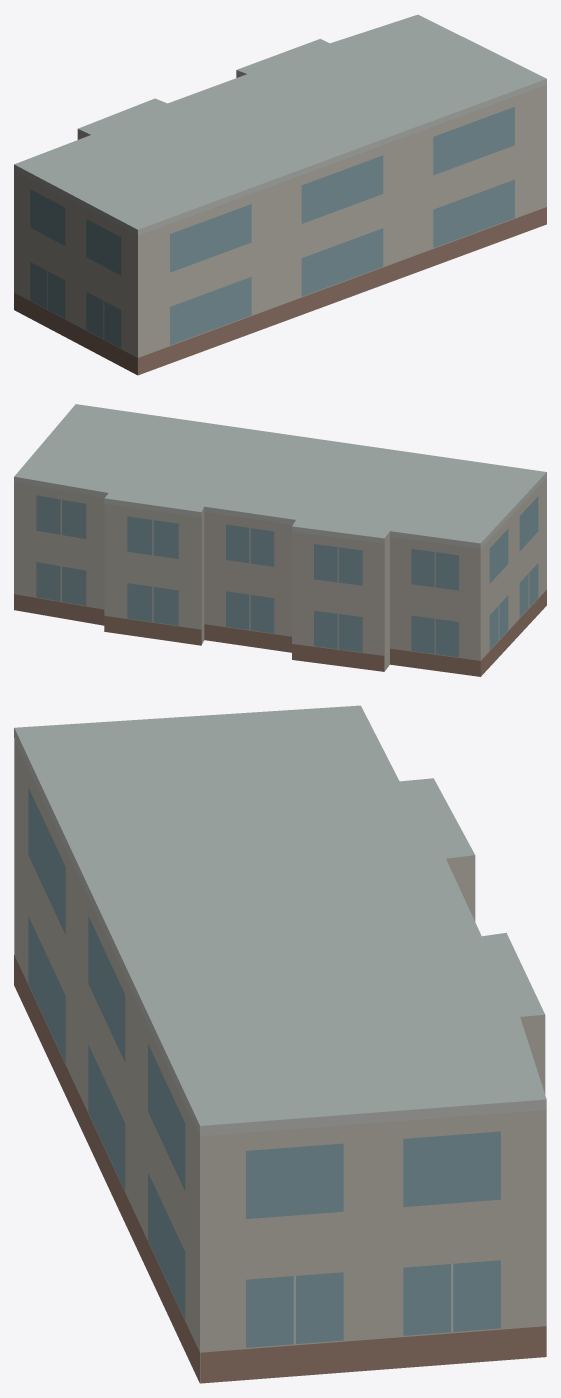
File: survey-upis-32952801.glb
3 views of the same model, one above another, from view 1: azimuth 30°, elevation 25°; view 2: azimuth 150°, elevation 25°; view 3: azimuth 270°, elevation 25° (orthographic). The views are drawn at different scales.
Parts seen in each view (by area): view 1: survey-upis-32952801.tmp; view 2: survey-upis-32952801.tmp; view 3: survey-upis-32952801.tmp.
Part boxes in pixels (x1,y1,x2,y2): survey-upis-32952801.tmp: (14, 14, 546, 375); survey-upis-32952801.tmp: (14, 404, 546, 676); survey-upis-32952801.tmp: (14, 705, 546, 1383).
Size of the model in its own units: 21.37 by 6.1 by 11.44.
